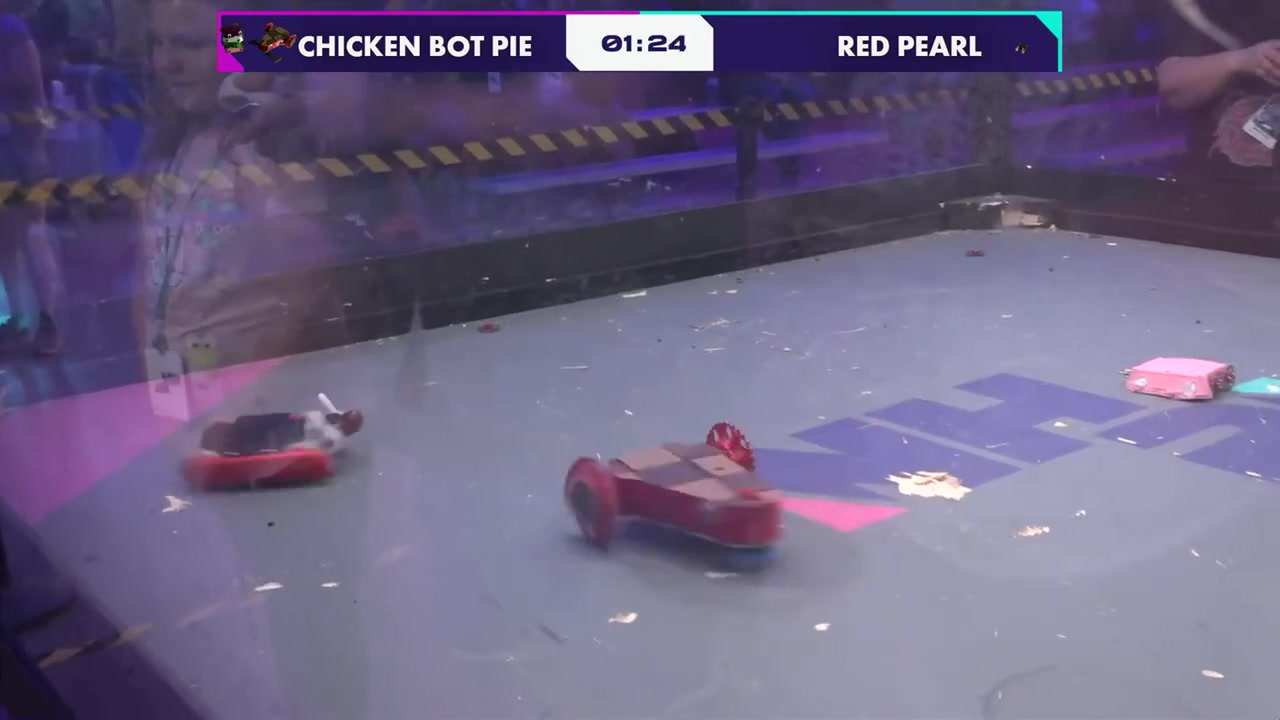combatbot: (561, 424, 778, 552), (189, 393, 339, 498)
minibot: (1122, 356, 1239, 403)
